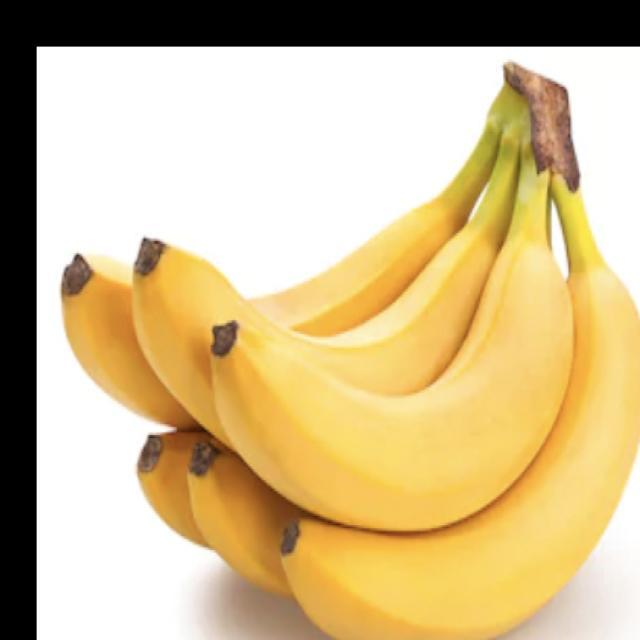Banana: (60, 60, 639, 639)
